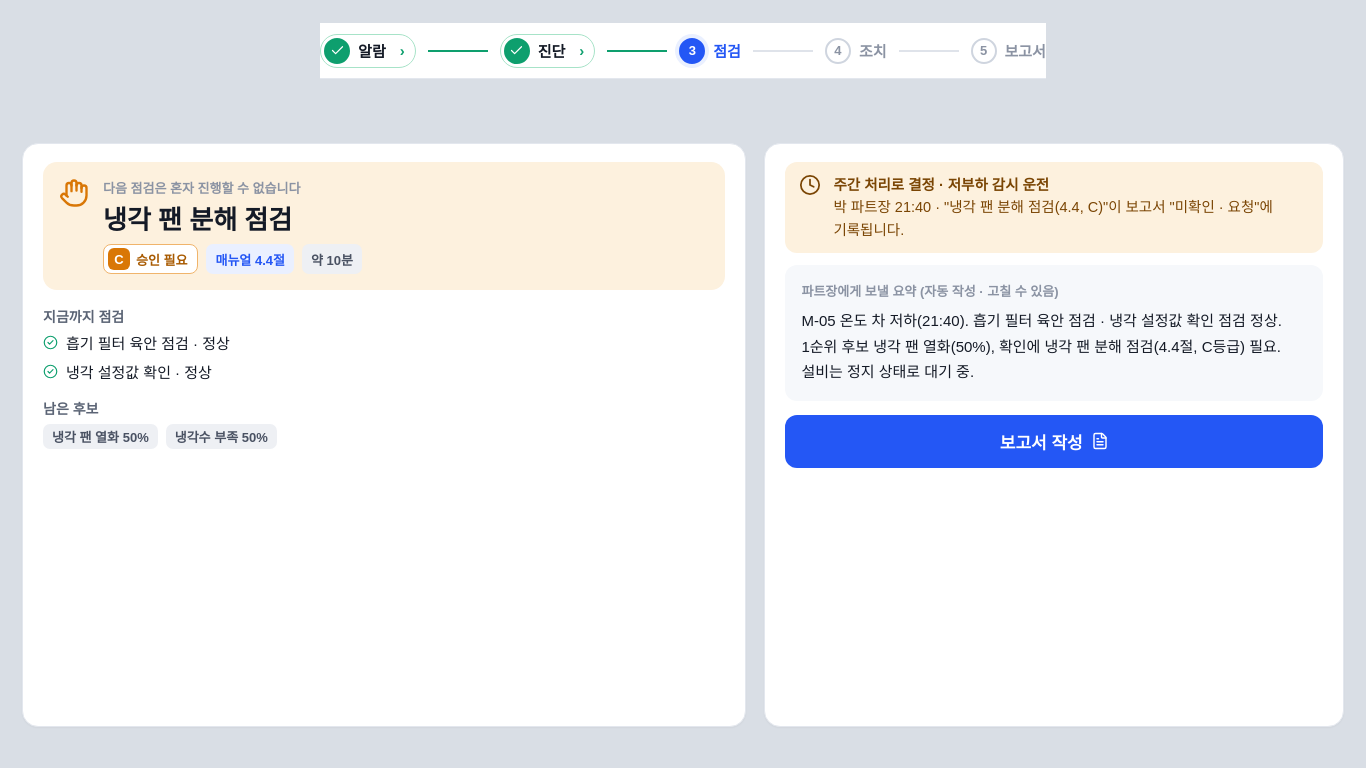
it: 세션 화면 넘김(기기 표시) › 주간 처리 답: 답 화면 → '보고서 작성' → 보고서(T10 / ans_daytime → T09)
The image size is (1366, 768).
Expected: the element with class "warn" is shown, [785, 162, 1323, 253]
Expected: the button "3 점검" is shown, [679, 38, 741, 64]
Click the button "보고서 작성" at coordinates (1054, 441), box [785, 415, 1323, 468]
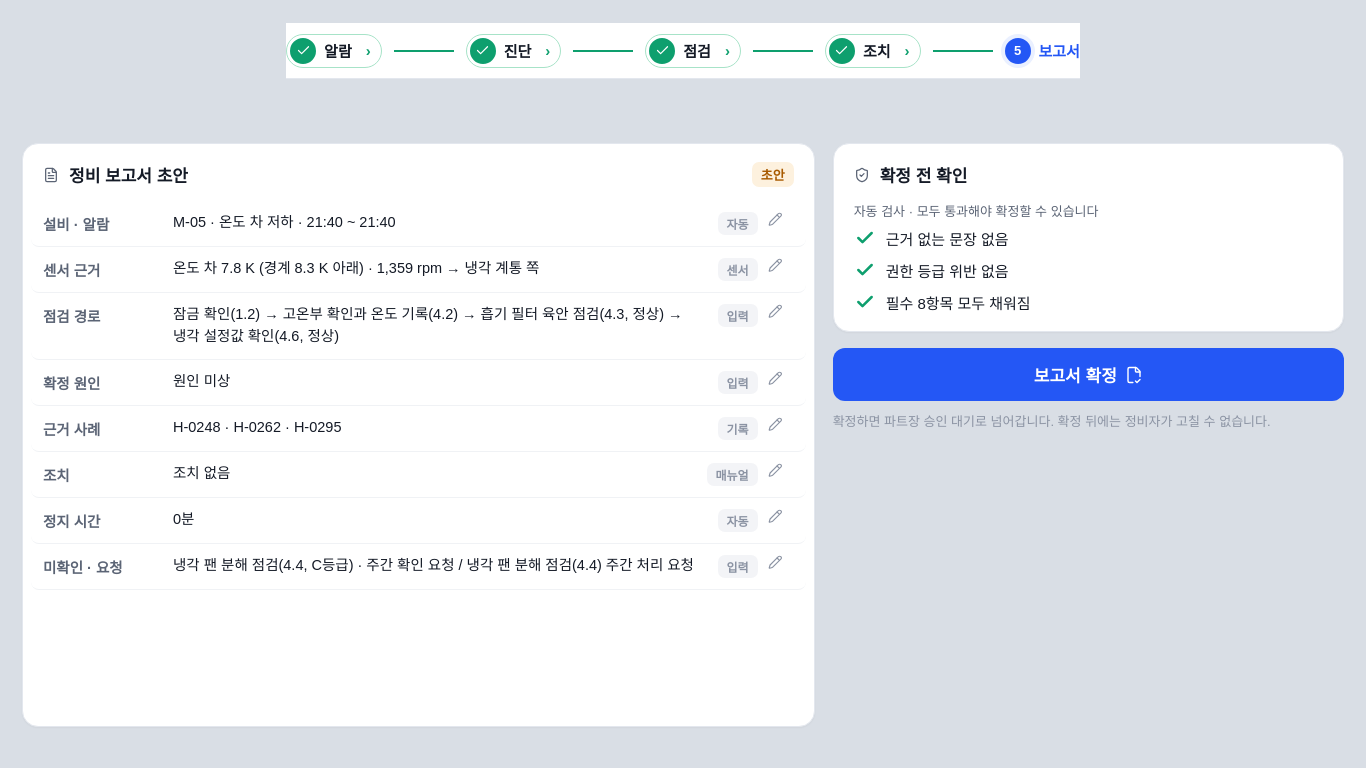
Expected: the button "5 보고서" is shown, [1004, 38, 1080, 64]
Now the element showing "설비 · 알람 M-05 · 온도 차 저하 · 21:40 ~ 21:40 자동" is shown, box [31, 201, 806, 247]
Now the text with class "rv2" shows "주간 처리 요청", box [173, 556, 694, 572]
